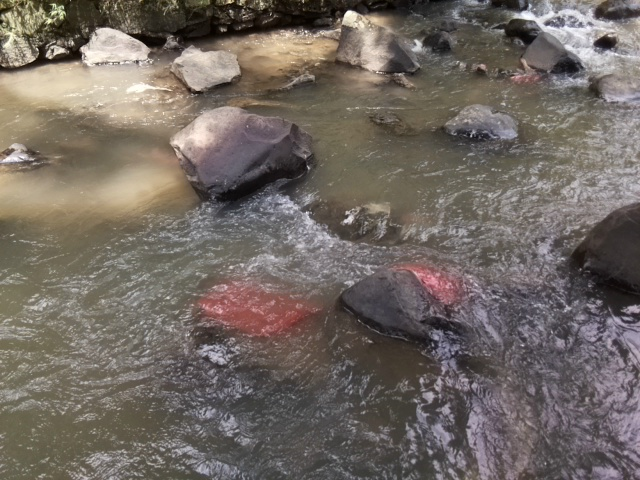Sampah_Plastik: (514, 59, 535, 84)
